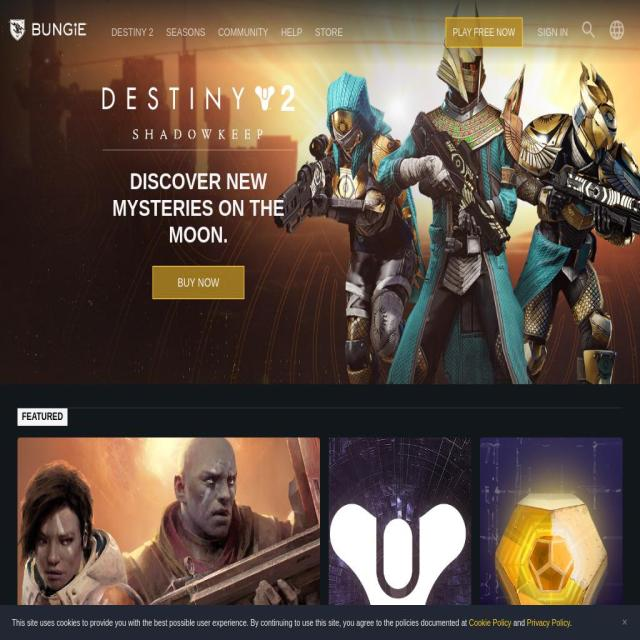button: (17, 436, 320, 640), (328, 436, 471, 640), (479, 436, 622, 640), (211, 0, 275, 65), (105, 0, 160, 65), (159, 0, 212, 65), (153, 265, 245, 299), (532, 0, 574, 65), (308, 0, 349, 65), (445, 18, 523, 48), (274, 0, 309, 65), (580, 18, 598, 84)
heading: (8, 0, 88, 65)
image: (0, 0, 640, 384), (17, 436, 320, 640), (328, 436, 471, 640), (479, 436, 622, 640)
link: (469, 616, 512, 628), (527, 616, 570, 628), (580, 18, 598, 42)
text: (0, 0, 640, 384), (102, 148, 295, 266), (12, 616, 469, 628), (18, 407, 68, 426), (608, 18, 626, 42), (512, 616, 528, 628), (621, 618, 628, 628), (569, 616, 572, 628)
